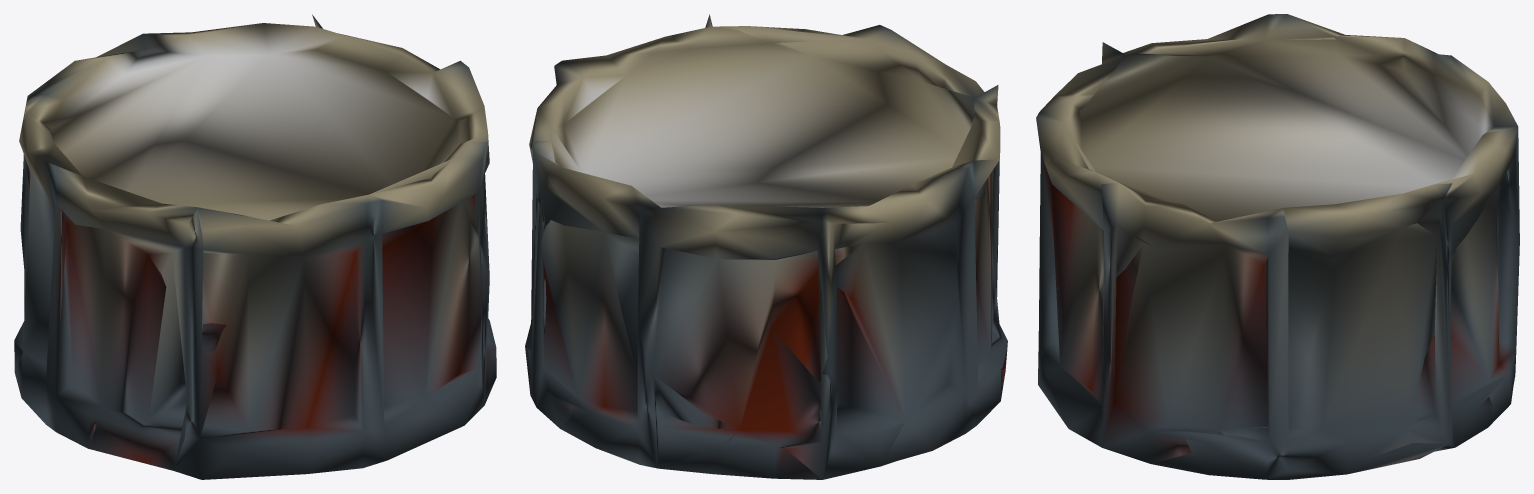
File: gen3d-tambourine-lod1.glb
The picture shows the model from 3 angles, left to right: view 1: azimuth 30°, elevation 25°; view 2: azimuth 150°, elevation 25°; view 3: azimuth 270°, elevation 25°; orthographic projection.
Parts seen in each view (by area): view 1: part_0; view 2: part_0; view 3: part_0.
Boxes of the visible parts, bbox=[...] form: part_0: bbox=[14, 14, 496, 479]; part_0: bbox=[525, 14, 1007, 479]; part_0: bbox=[1036, 14, 1519, 479].
Bounding box in the file's own units: 1.58 × 0.9966 × 1.59.
